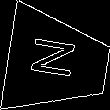N_E: (29, 39, 86, 86)
